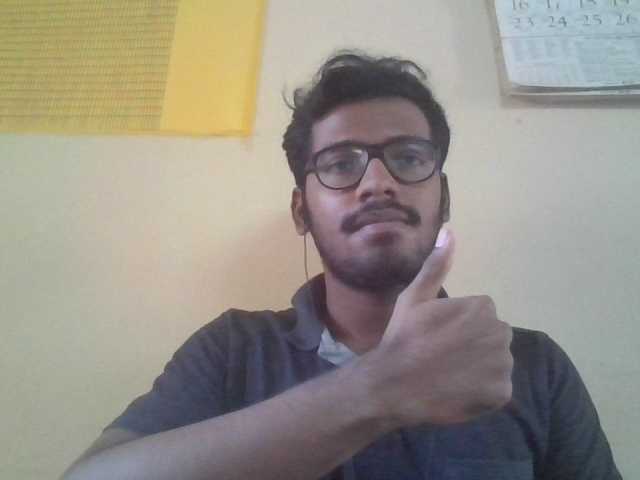ThumbsUp: (377, 227, 515, 430)
